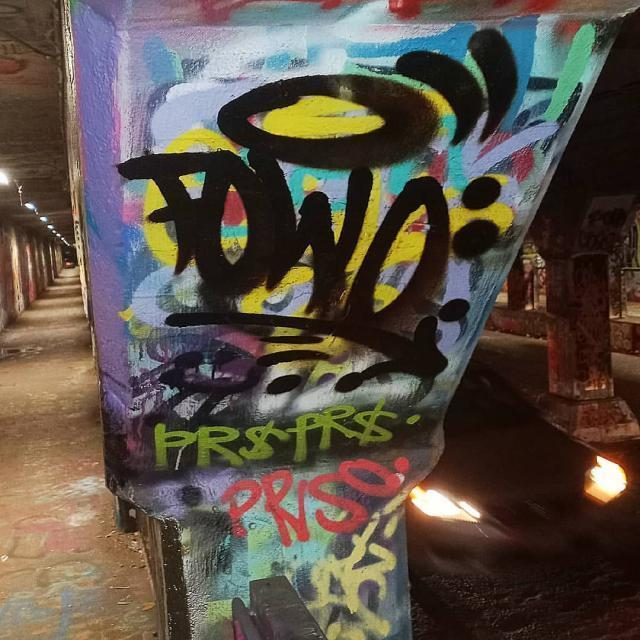nonspitting: (67, 0, 605, 638)
